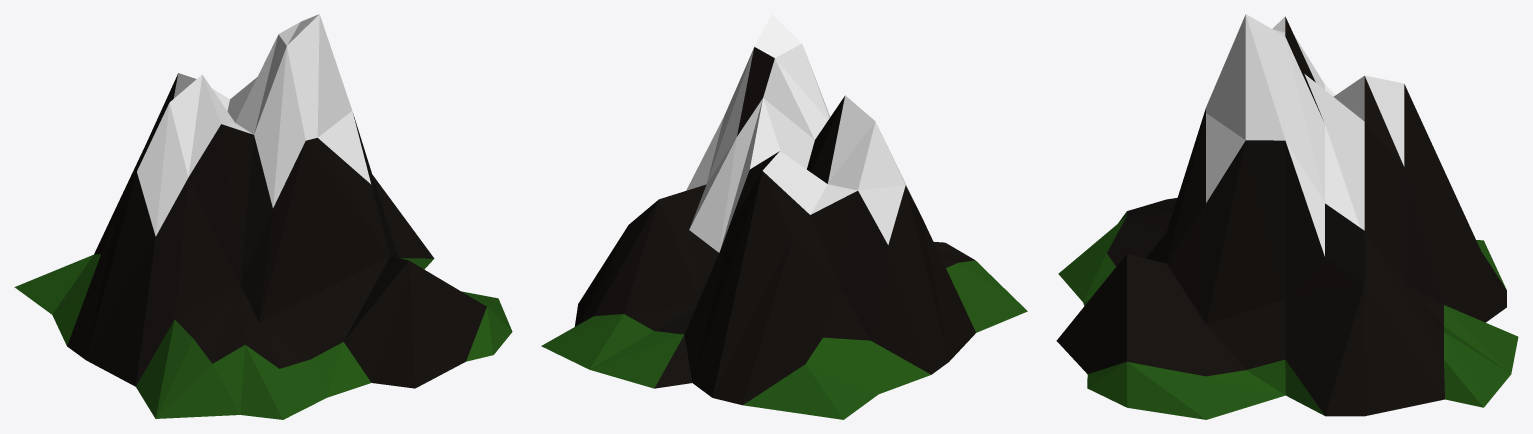
The model's file is Mountain_7.fbx.
3 renders of one model, left to right at view 1: azimuth 30°, elevation 25°; view 2: azimuth 150°, elevation 25°; view 3: azimuth 270°, elevation 25°, orthographic. The views are drawn at different scales.
Parts seen in each view (by area): view 1: Mountain_7; view 2: Mountain_7; view 3: Mountain_7.
Boxes of the visible parts, x1,y1,x2,y2 form: Mountain_7: (14, 14, 512, 419); Mountain_7: (541, 14, 1027, 419); Mountain_7: (1056, 14, 1518, 419).
Size of the model in its own units: 1425 by 1108 by 1431.
